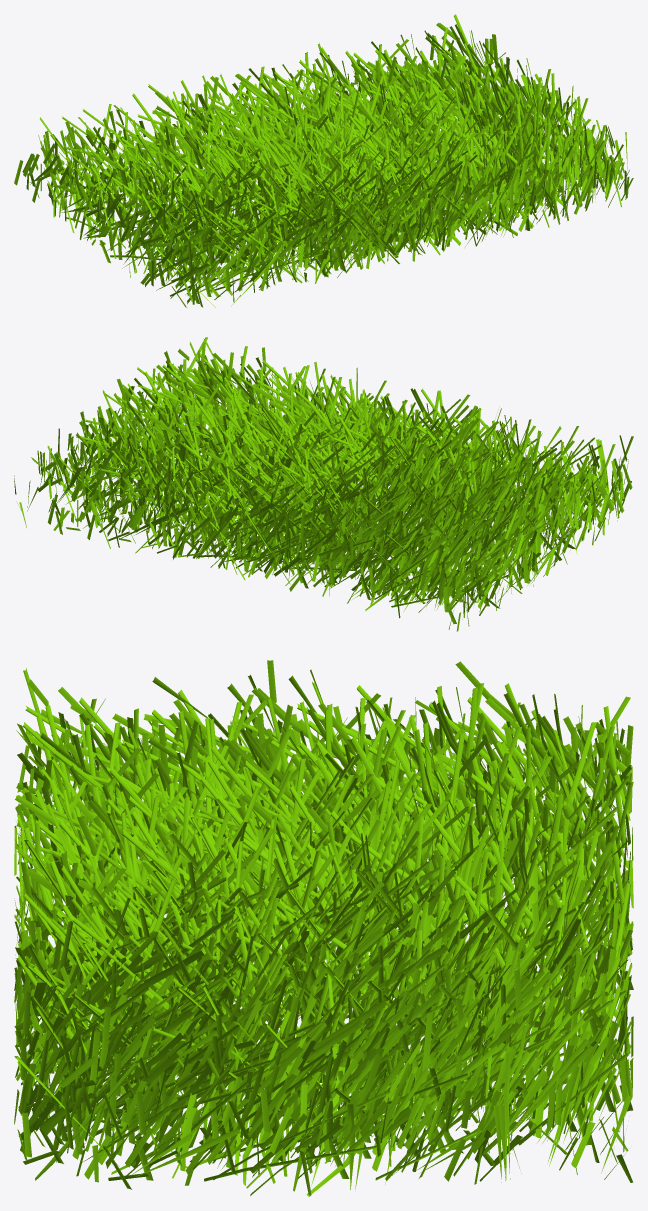
The model's file is grass.glb.
3 renders of one model, top to bottom at view 1: azimuth 30°, elevation 25°; view 2: azimuth 150°, elevation 25°; view 3: azimuth 270°, elevation 25°, orthographic. The views are drawn at different scales.
Visible parts, largest first — view 1: weed14; view 2: weed14; view 3: weed14.
Boxes of the visible parts, x1,y1,x2,y2 form: weed14: (14,14,633,307); weed14: (14,337,633,631); weed14: (14,660,633,1196).
Size of the model in its own units: 98.4 by 15.27 by 63.63.
